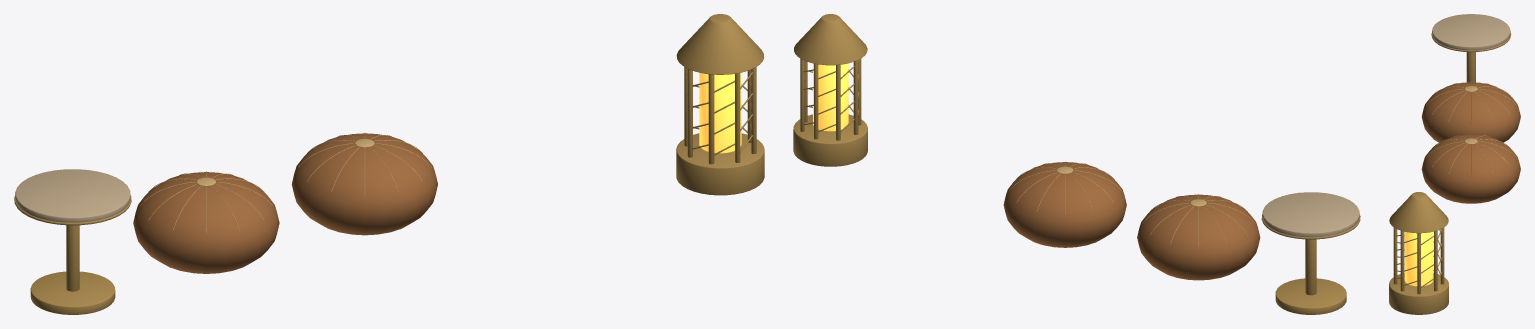
The model's file is riad-furniture.glb.
The picture shows the model from 3 angles, left to right: view 1: azimuth 30°, elevation 25°; view 2: azimuth 150°, elevation 25°; view 3: azimuth 270°, elevation 25°; orthographic projection. The views are drawn at different scales.
Parts seen in each view (by area): view 1: Soft round leather ottoman, Weighted pedestal, Honed stone side table, Warm luminous lantern core, Curved hand sewn seam; view 2: Soft round leather ottoman, Weighted pedestal, Honed stone side table, Warm luminous lantern core, Curved hand sewn seam; view 3: Soft round leather ottoman, Weighted pedestal, Honed stone side table, Warm luminous lantern core, Curved hand sewn seam.
Boxes of the visible parts, <box> form: Soft round leather ottoman: <box>133,133,437,273</box>; Weighted pedestal: <box>14,14,764,314</box>; Honed stone side table: <box>15,169,130,222</box>; Warm luminous lantern core: <box>699,72,741,153</box>; Curved hand sewn seam: <box>139,132,431,234</box>; Soft round leather ottoman: <box>1003,162,1260,280</box>; Weighted pedestal: <box>793,14,1360,314</box>; Honed stone side table: <box>1262,192,1359,237</box>; Warm luminous lantern core: <box>813,63,848,131</box>; Curved hand sewn seam: <box>1009,161,1254,246</box>; Soft round leather ottoman: <box>1421,82,1520,203</box>; Weighted pedestal: <box>1389,33,1511,314</box>; Honed stone side table: <box>1432,14,1510,50</box>; Warm luminous lantern core: <box>1404,232,1433,286</box>; Curved hand sewn seam: <box>1426,81,1516,176</box>.
Bounding box in the file's own units: 4.19 × 0.91 × 1.01.
